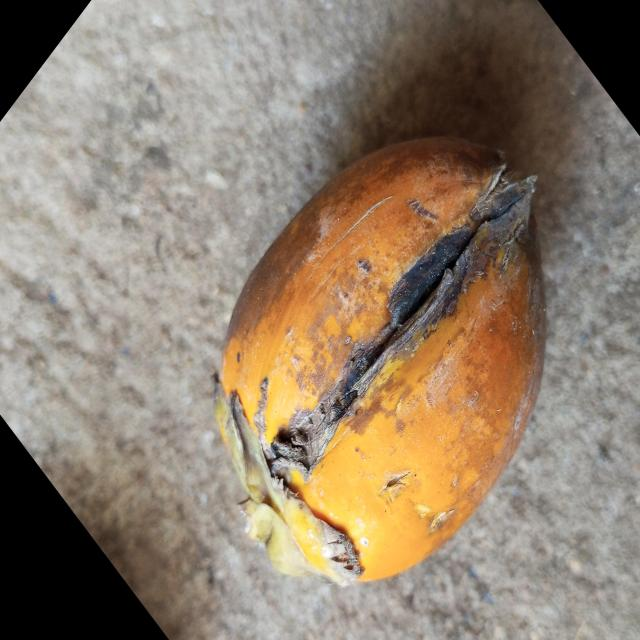damaged: (216, 138, 545, 584)
